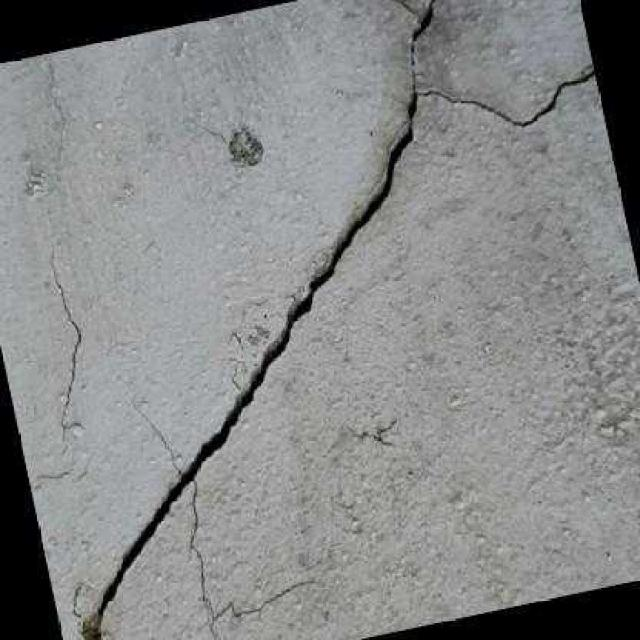D00: (92, 0, 595, 640)
